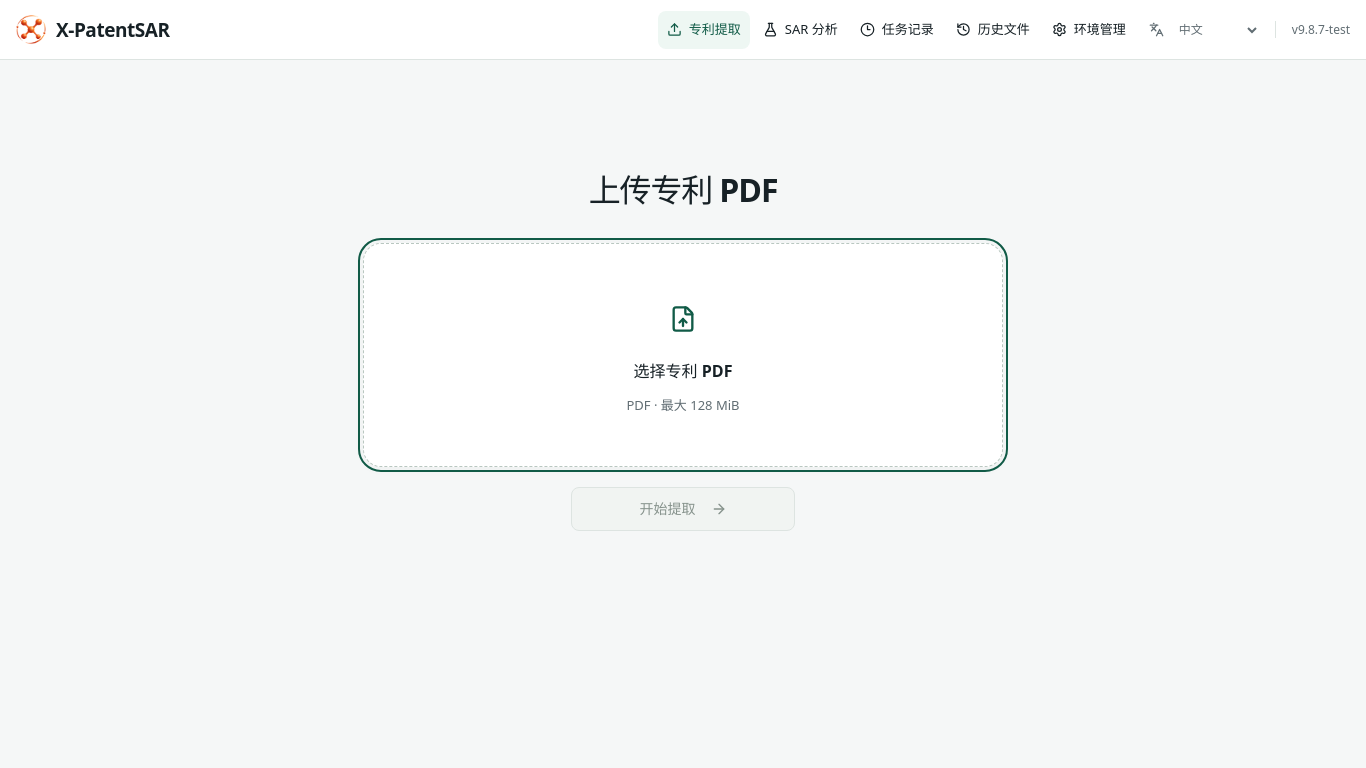
Test: minimal application shell, routes and failure states › opens job history directly from the persistent topbar and marks the selected route
This screenshot has width=1366, height=768.
Expected: the button "专利提取" is enabled, [658,10,750,48]
Click the button "任务记录": (897, 30) [851,10,943,48]
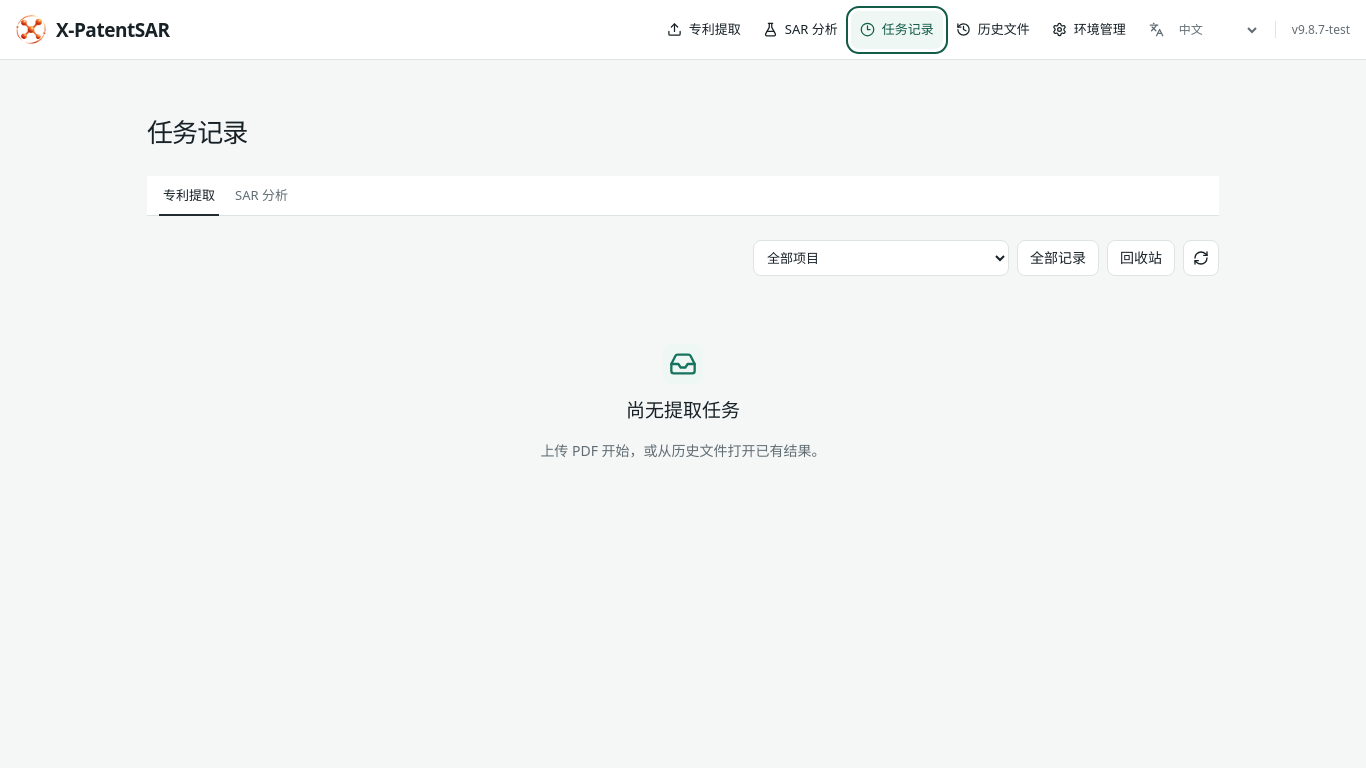
Now the heading "任务记录" is shown, box [147,116,247,148]
